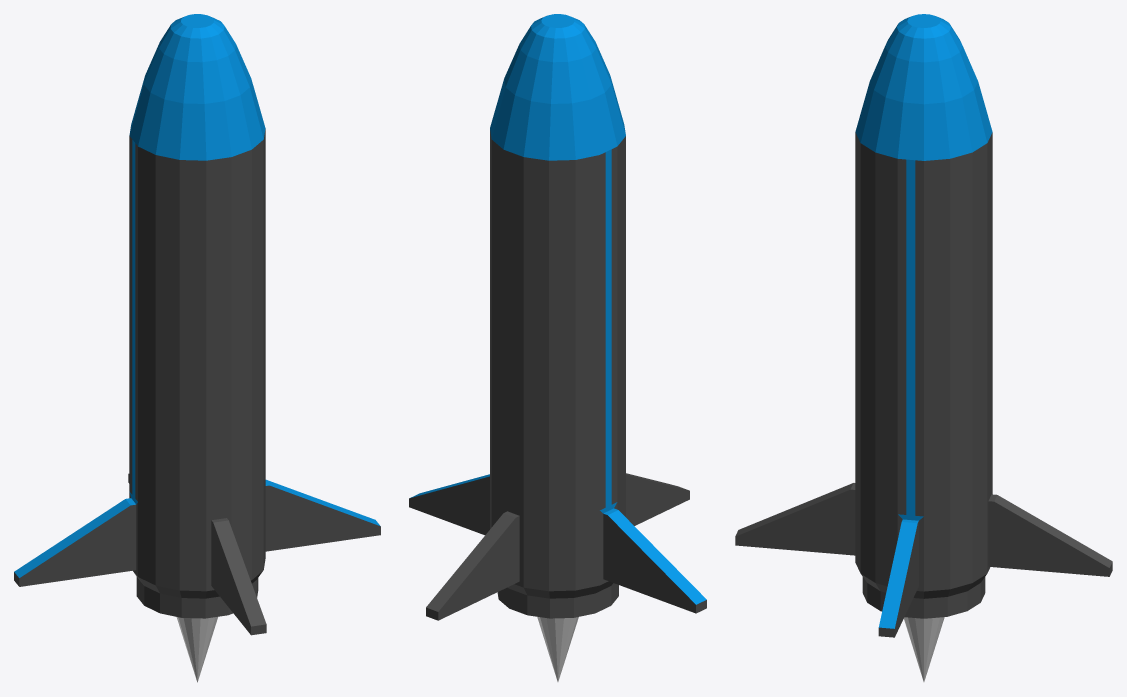
The model's file is missile1.0.fbx.
3 renders of one model, left to right at view 1: azimuth 30°, elevation 25°; view 2: azimuth 150°, elevation 25°; view 3: azimuth 270°, elevation 25°, orthographic.
Parts seen in each view (by area): view 1: Cylinder; view 2: Cylinder; view 3: Cylinder.
Part boxes in pixels (left/top/right/bottom): Cylinder: left=14, top=14, right=380, bottom=682; Cylinder: left=409, top=14, right=706, bottom=681; Cylinder: left=735, top=14, right=1112, bottom=681.
Size of the model in its own units: 1101 by 2128 by 1101.
